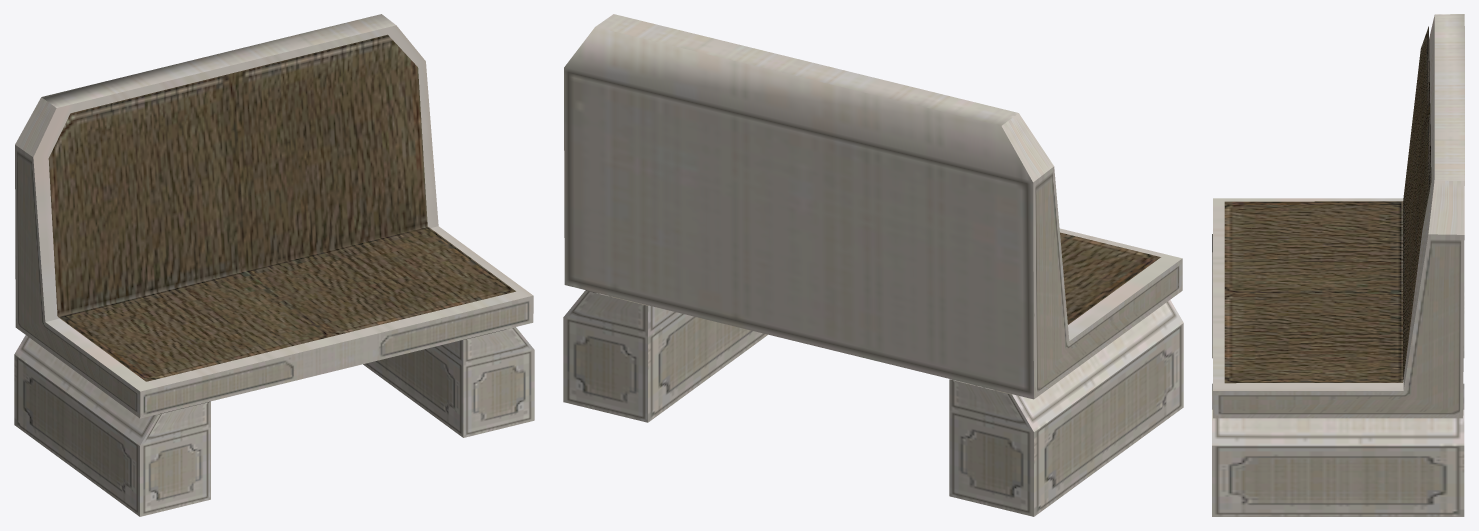
The model's file is frn_all_eleg_love_seat_s01_l1.fbx.
3 views of the same model, side by side, from view 1: azimuth 30°, elevation 25°; view 2: azimuth 150°, elevation 25°; view 3: azimuth 270°, elevation 25° (orthographic). The views are drawn at different scales.
Parts seen in each view (by area): view 1: mesh_node; view 2: mesh_node; view 3: mesh_node.
Part boxes in pixels (x1,y1,x2,y2): mesh_node: [14, 14, 534, 516]; mesh_node: [563, 14, 1183, 516]; mesh_node: [1212, 14, 1464, 516].
Size of the model in its own units: 1.28 by 0.9974 by 0.7077.
Materials: 1 (1 with a texture image).
